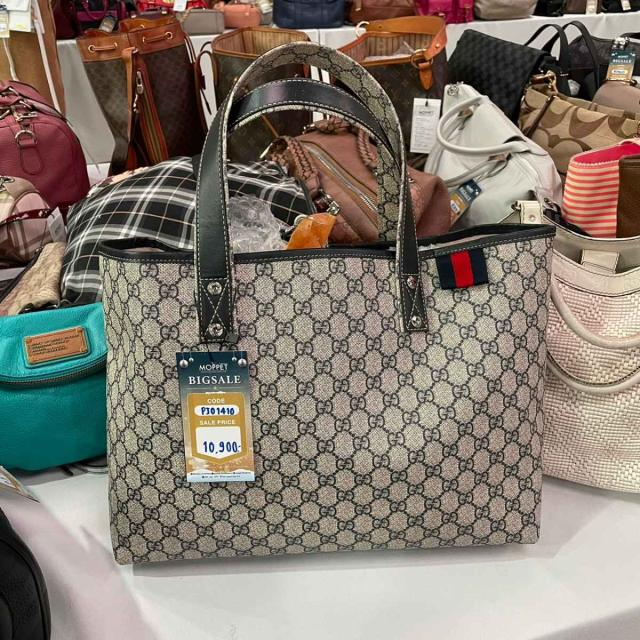Handbag: (87, 205, 558, 591)
